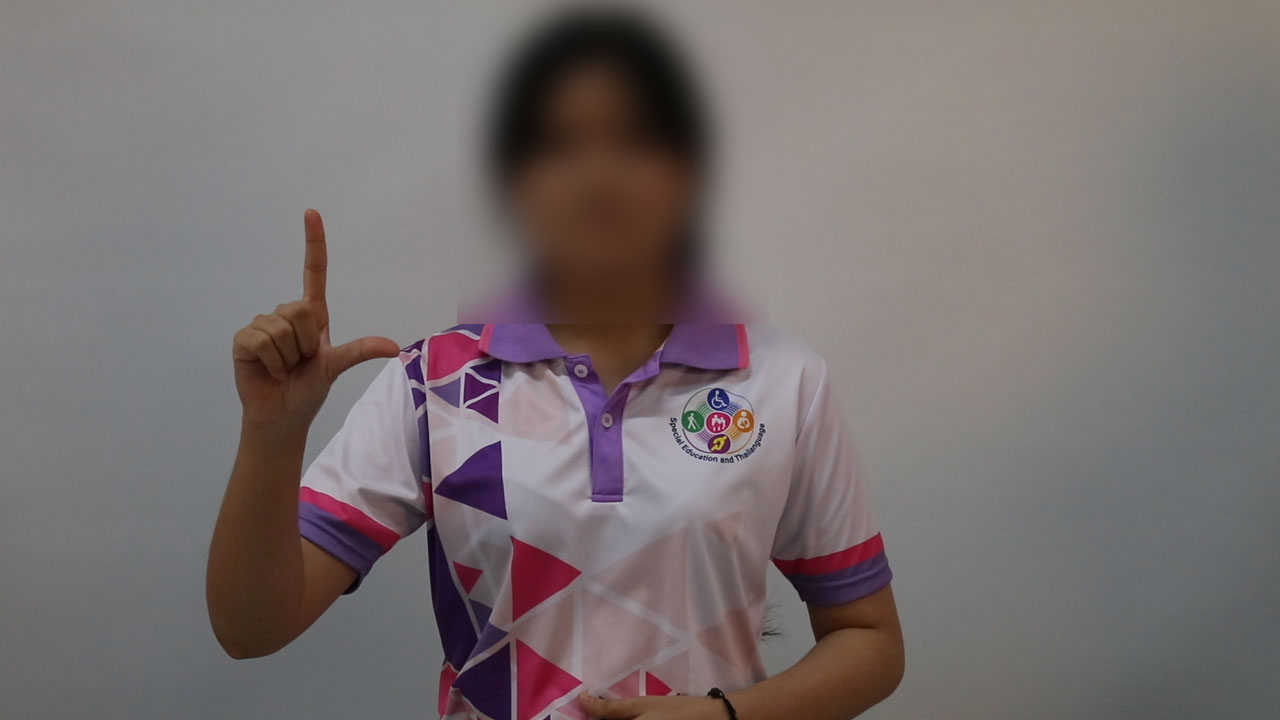lor: (222, 198, 410, 454)
